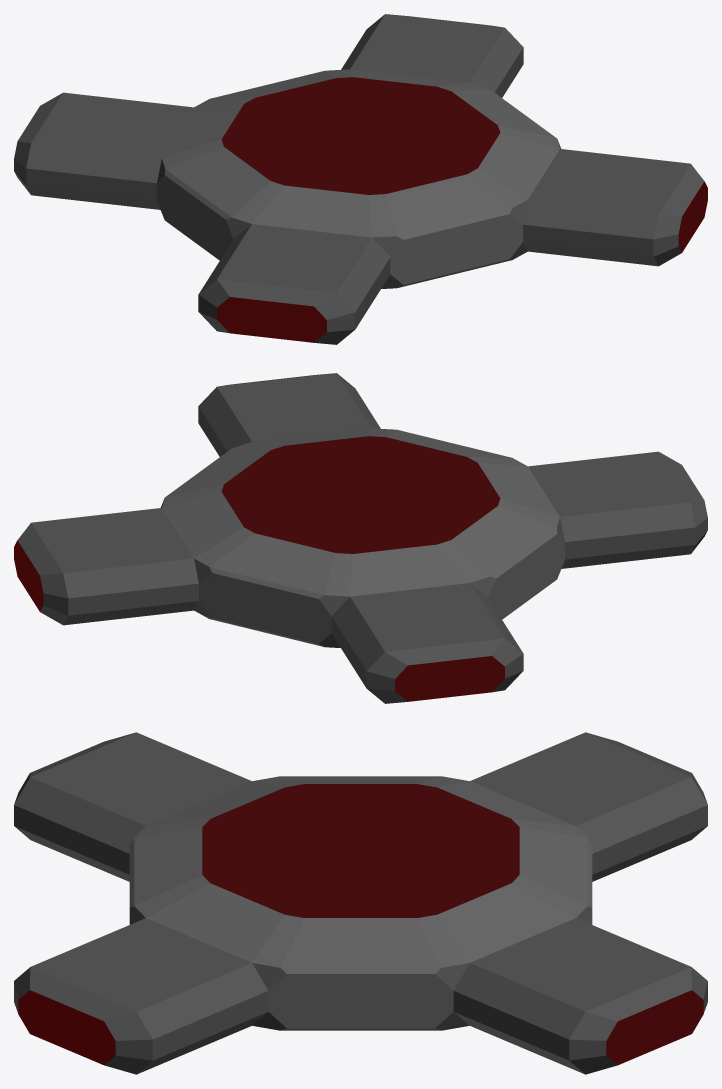
File: enemyship4.glb
3 views of the same model, one above another, from view 1: azimuth 30°, elevation 25°; view 2: azimuth 150°, elevation 25°; view 3: azimuth 270°, elevation 25° (orthographic). The views are drawn at different scales.
Visible parts, largest first — view 1: Plane; view 2: Plane; view 3: Plane.
Boxes of the visible parts, x1,y1,x2,y2 form: Plane: (14, 14, 707, 344); Plane: (14, 373, 707, 703); Plane: (14, 732, 707, 1074).
Bounding box in the file's own units: 1.8 × 0.3 × 1.8.
